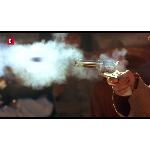Pistol: (66, 53, 136, 101)
